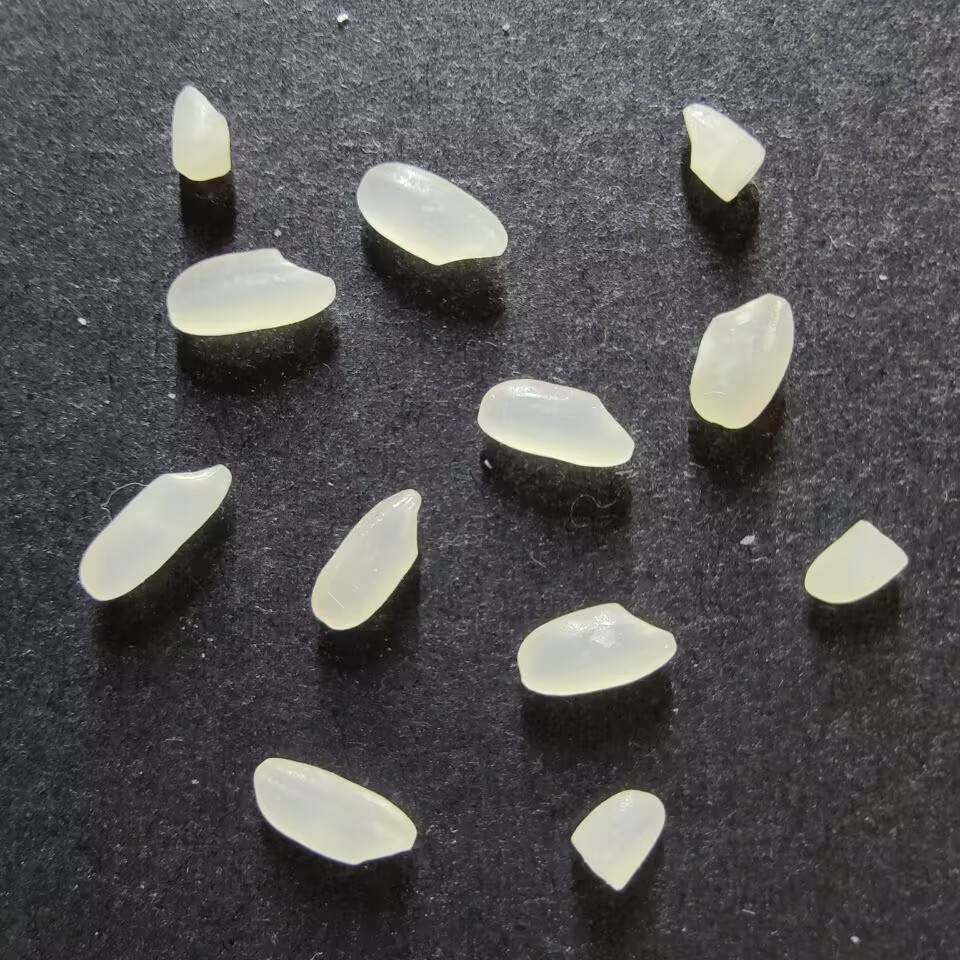broken: (569, 789, 665, 891), (803, 519, 908, 603), (683, 102, 766, 202), (170, 84, 230, 181)
rice: (78, 463, 232, 601), (253, 757, 417, 865), (355, 161, 508, 265), (310, 488, 422, 630), (166, 247, 336, 336), (516, 602, 676, 696), (689, 293, 794, 430), (476, 378, 634, 468)
